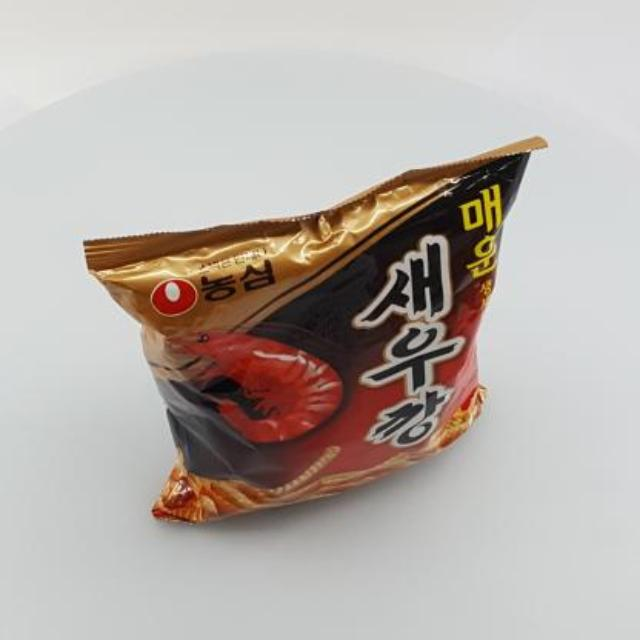snack_bag: (75, 130, 570, 532)
